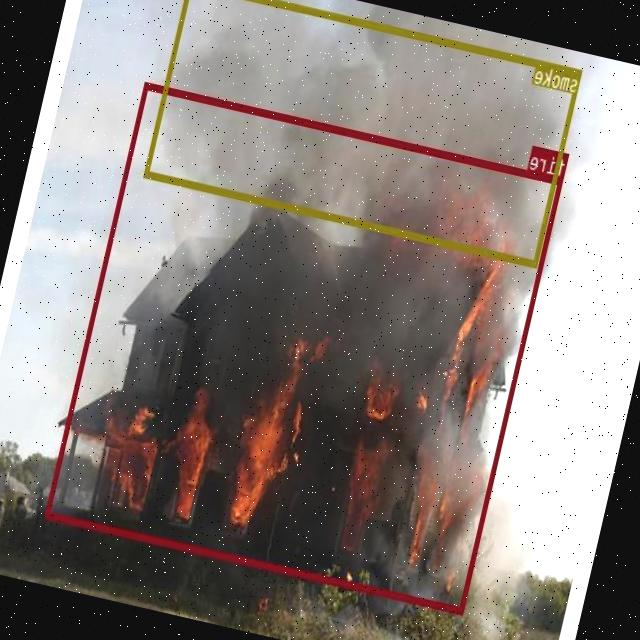fire: (46, 81, 564, 613)
smoke: (144, 0, 582, 265)
